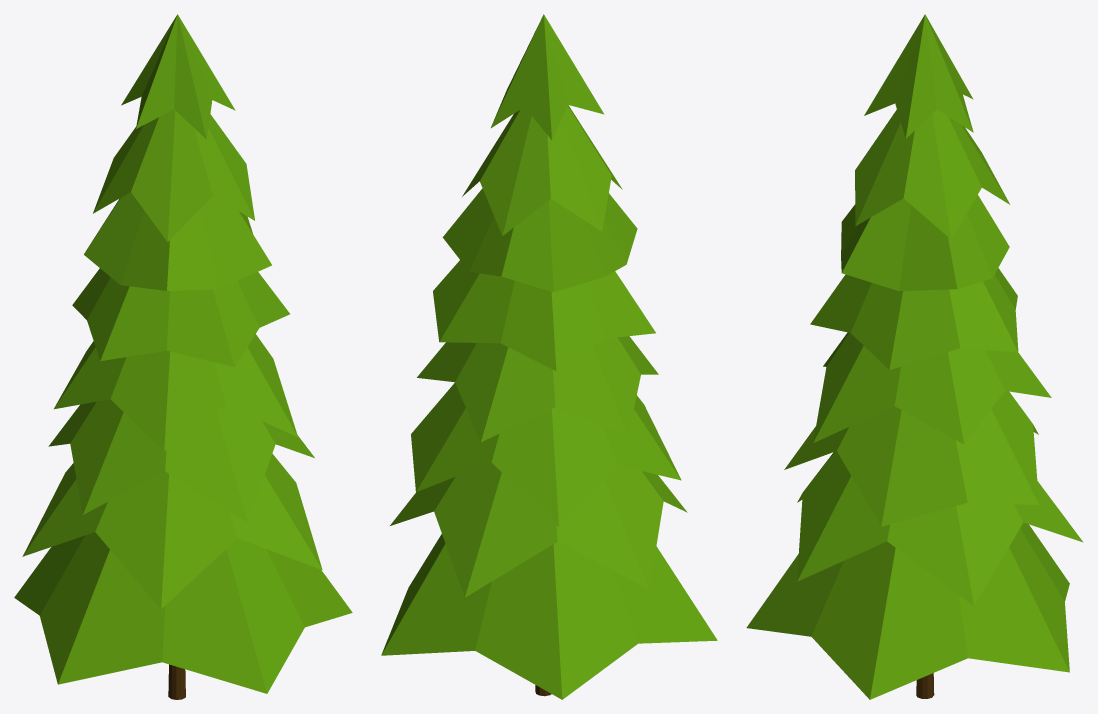
The model's file is SpruceMK4.glb.
3 views of the same model, side by side, from view 1: azimuth 30°, elevation 25°; view 2: azimuth 150°, elevation 25°; view 3: azimuth 270°, elevation 25° (orthographic).
Parts seen in each view (by area): view 1: Cylinder; view 2: Cylinder; view 3: Cylinder.
Part boxes in pixels (x1=…): Cylinder: x1=14, y1=14, x2=352, y2=699; Cylinder: x1=381, y1=14, x2=717, y2=699; Cylinder: x1=746, y1=14, x2=1083, y2=699.
Size of the model in its own units: 14.94 by 33.02 by 14.81.
